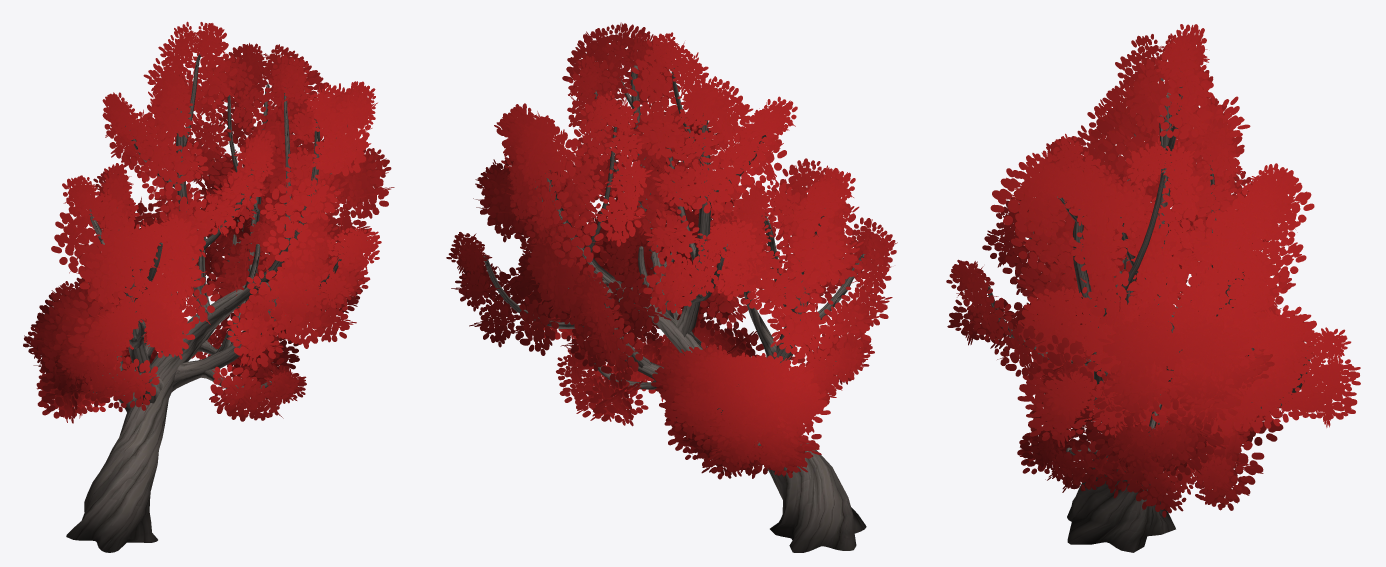
Rendered from n_twistedtree_1.glb.
3 views of the same model, side by side, from view 1: azimuth 30°, elevation 25°; view 2: azimuth 150°, elevation 25°; view 3: azimuth 270°, elevation 25° (orthographic). The views are drawn at different scales.
Visible parts, largest first — view 1: TwistedTree_1; view 2: TwistedTree_1; view 3: TwistedTree_1.
Boxes of the visible parts, box(x1,y1,x2,y2) form: TwistedTree_1: box(23, 21, 394, 552); TwistedTree_1: box(446, 22, 897, 552); TwistedTree_1: box(946, 24, 1360, 552).
Bounding box in the file's own units: 13.52 × 16.73 × 11.55.
Materials: 2 (2 with a texture image).
